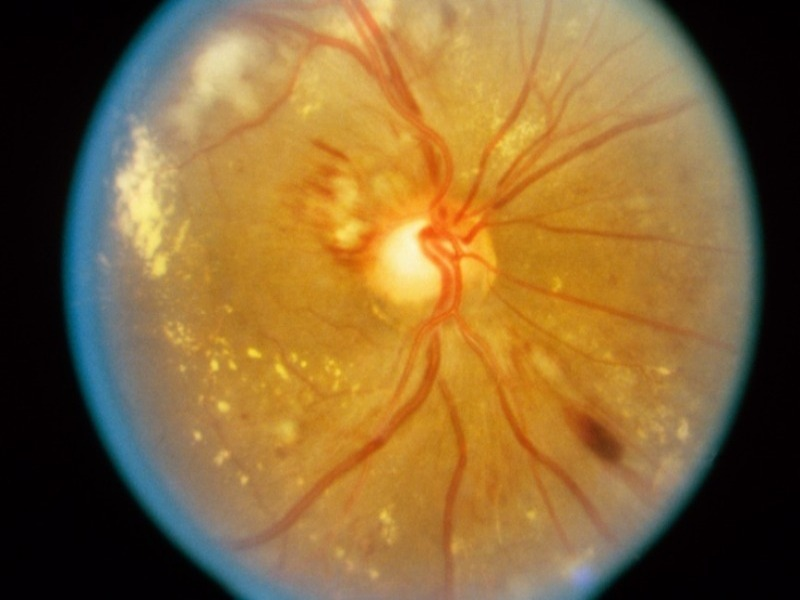Optic Cup: (380, 222, 436, 299)
Optic Disc: (364, 196, 493, 317)
